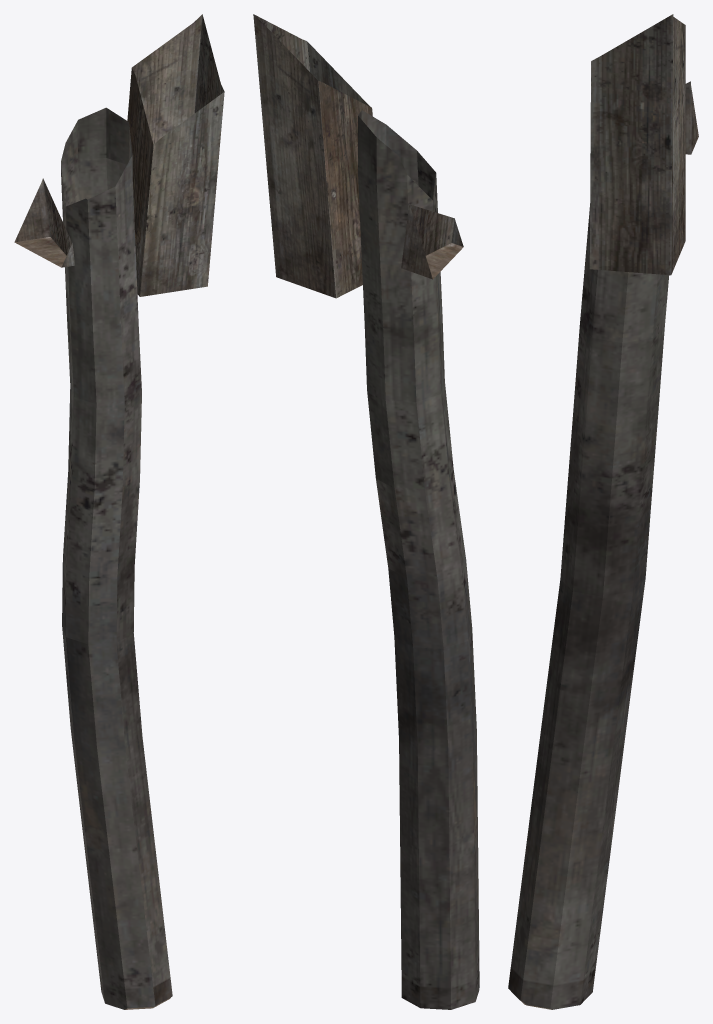
Rendered from Wagon3_4.fbx.
The picture shows the model from 3 angles, left to right: view 1: azimuth 30°, elevation 25°; view 2: azimuth 150°, elevation 25°; view 3: azimuth 270°, elevation 25°; orthographic projection. The views are drawn at different scales.
Parts seen in each view (by area): view 1: SM_Wagon03_DM.004; view 2: SM_Wagon03_DM.004; view 3: SM_Wagon03_DM.004.
Part boxes in pixels (x1=…): SM_Wagon03_DM.004: x1=14, y1=14, x2=224, y2=1009; SM_Wagon03_DM.004: x1=253, y1=14, x2=479, y2=1009; SM_Wagon03_DM.004: x1=508, y1=14, x2=698, y2=1009.
Bounding box in the file's own units: 2113 × 10426 × 1726.
1 material, 1 textured.
